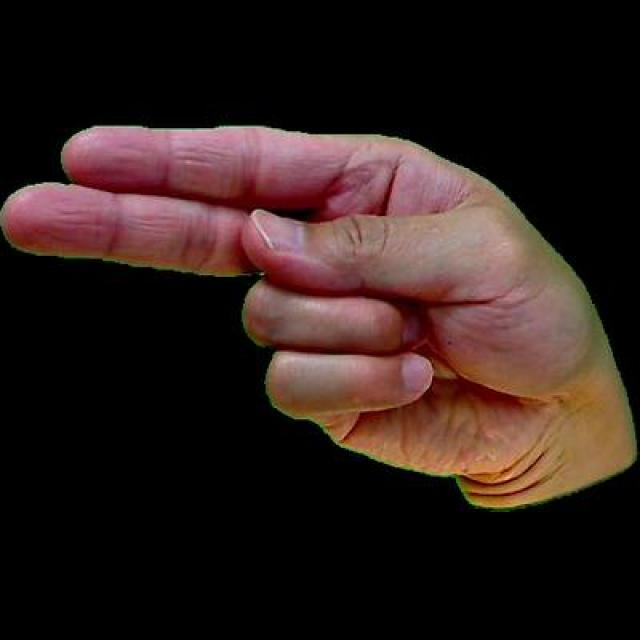h: (0, 100, 637, 510)
